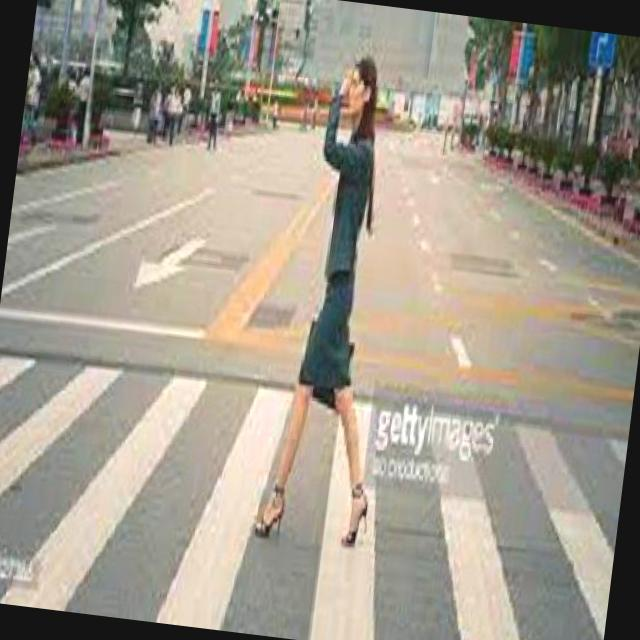Person: (254, 44, 432, 559)
